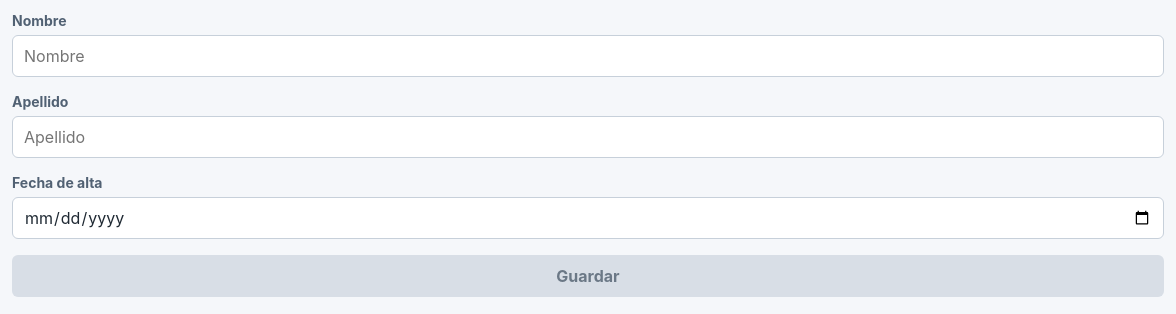
Test: PersonaForm › habilita Guardar cuando todos los campos tienen valor
This screenshot has width=1176, height=314.
Type "Juan" into the field labelled "Nombre".
click(588, 56); type("Juan")  # box [12,35,1164,77]
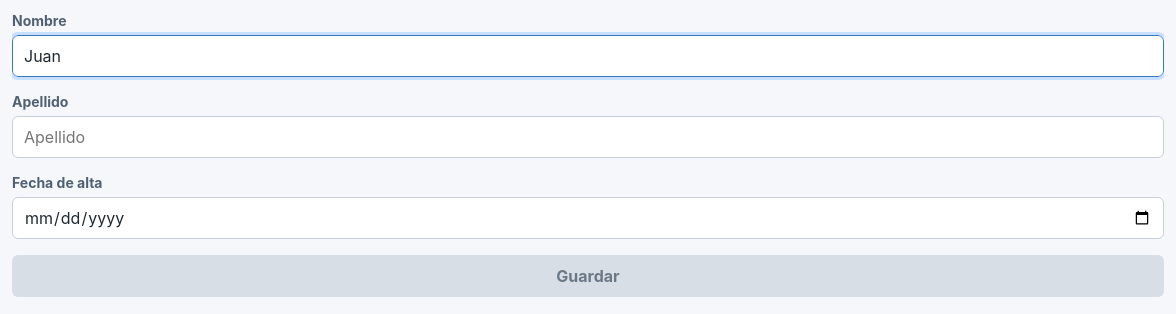
Type "Pérez" into the field labelled "Apellido".
click(588, 137); type("Pérez")  # box [12,116,1164,158]
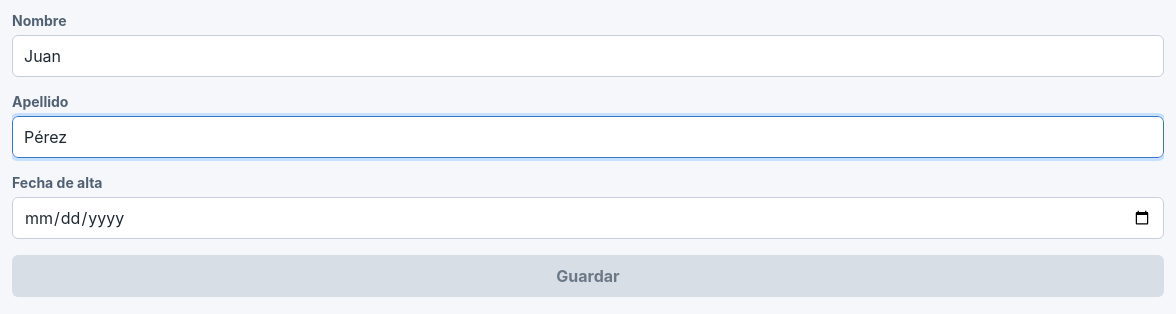
Type "2024-01-15" into the date field labelled "Fecha de alta".
click(588, 218); type("2024-01-15")  # box [12,197,1164,239]
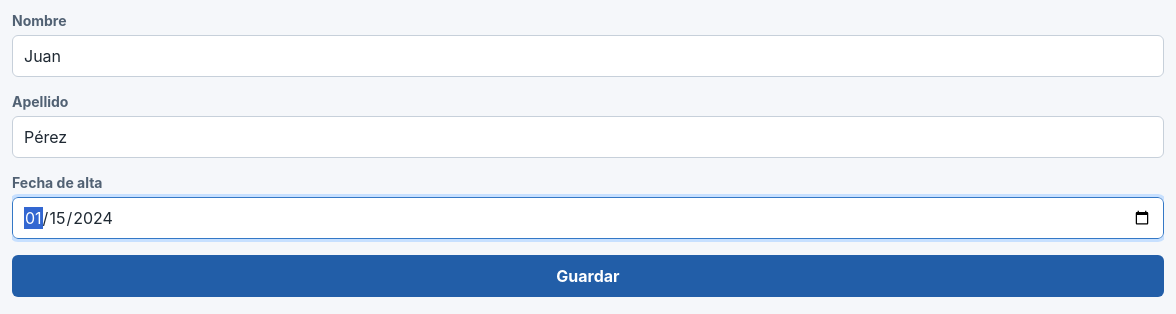
Check: the button "Guardar" is enabled, box [12,255,1164,297]
